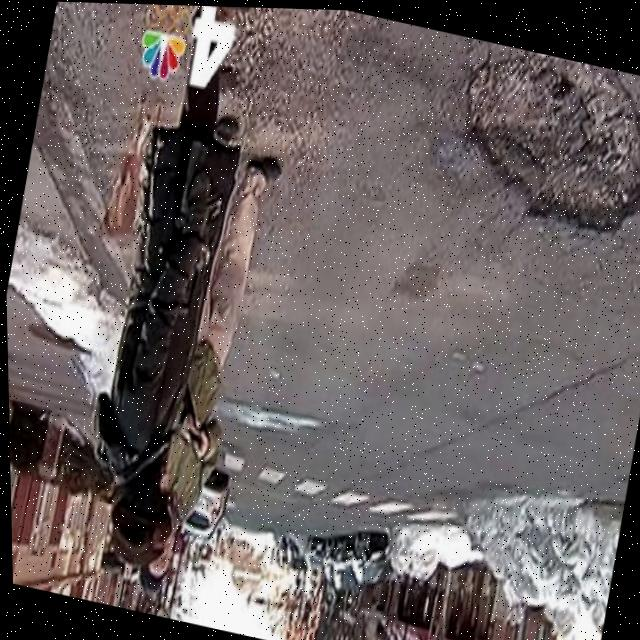Pothole: (440, 34, 640, 251)
